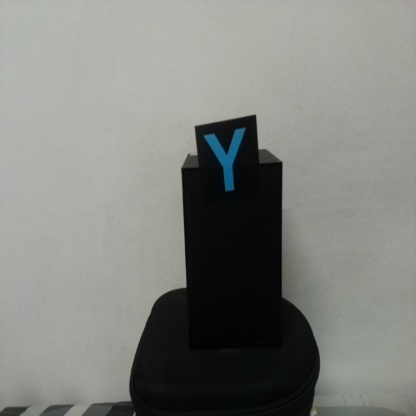id_14: (195, 126, 259, 201)
